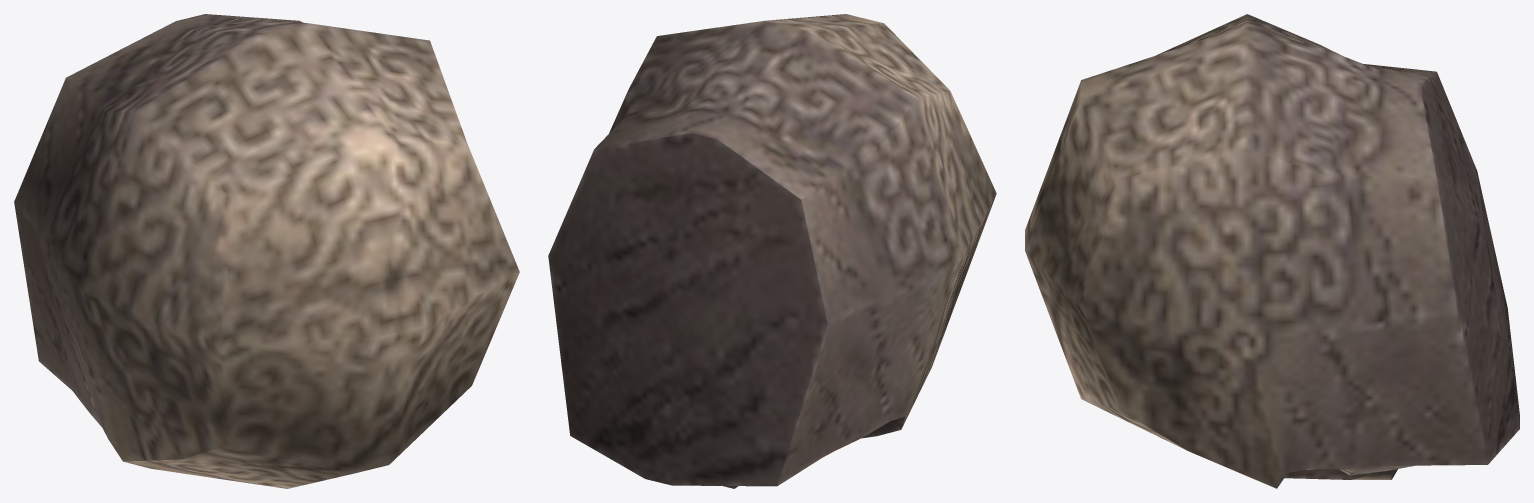
File: maurice.obj
The picture shows the model from 3 angles, left to right: view 1: azimuth 30°, elevation 25°; view 2: azimuth 150°, elevation 25°; view 3: azimuth 270°, elevation 25°; orthographic projection. The views are drawn at different scales.
Parts seen in each view (by area): view 1: MaliciousFace_0; view 2: MaliciousFace_0; view 3: MaliciousFace_0.
Part boxes in pixels (x1=…): MaliciousFace_0: x1=14, y1=14, x2=519, y2=488; MaliciousFace_0: x1=548, y1=14, x2=996, y2=488; MaliciousFace_0: x1=1025, y1=14, x2=1519, y2=488.
Bounding box in the file's own units: 3.09 × 3.46 × 3.57.
Materials: 1 (1 with a texture image).
